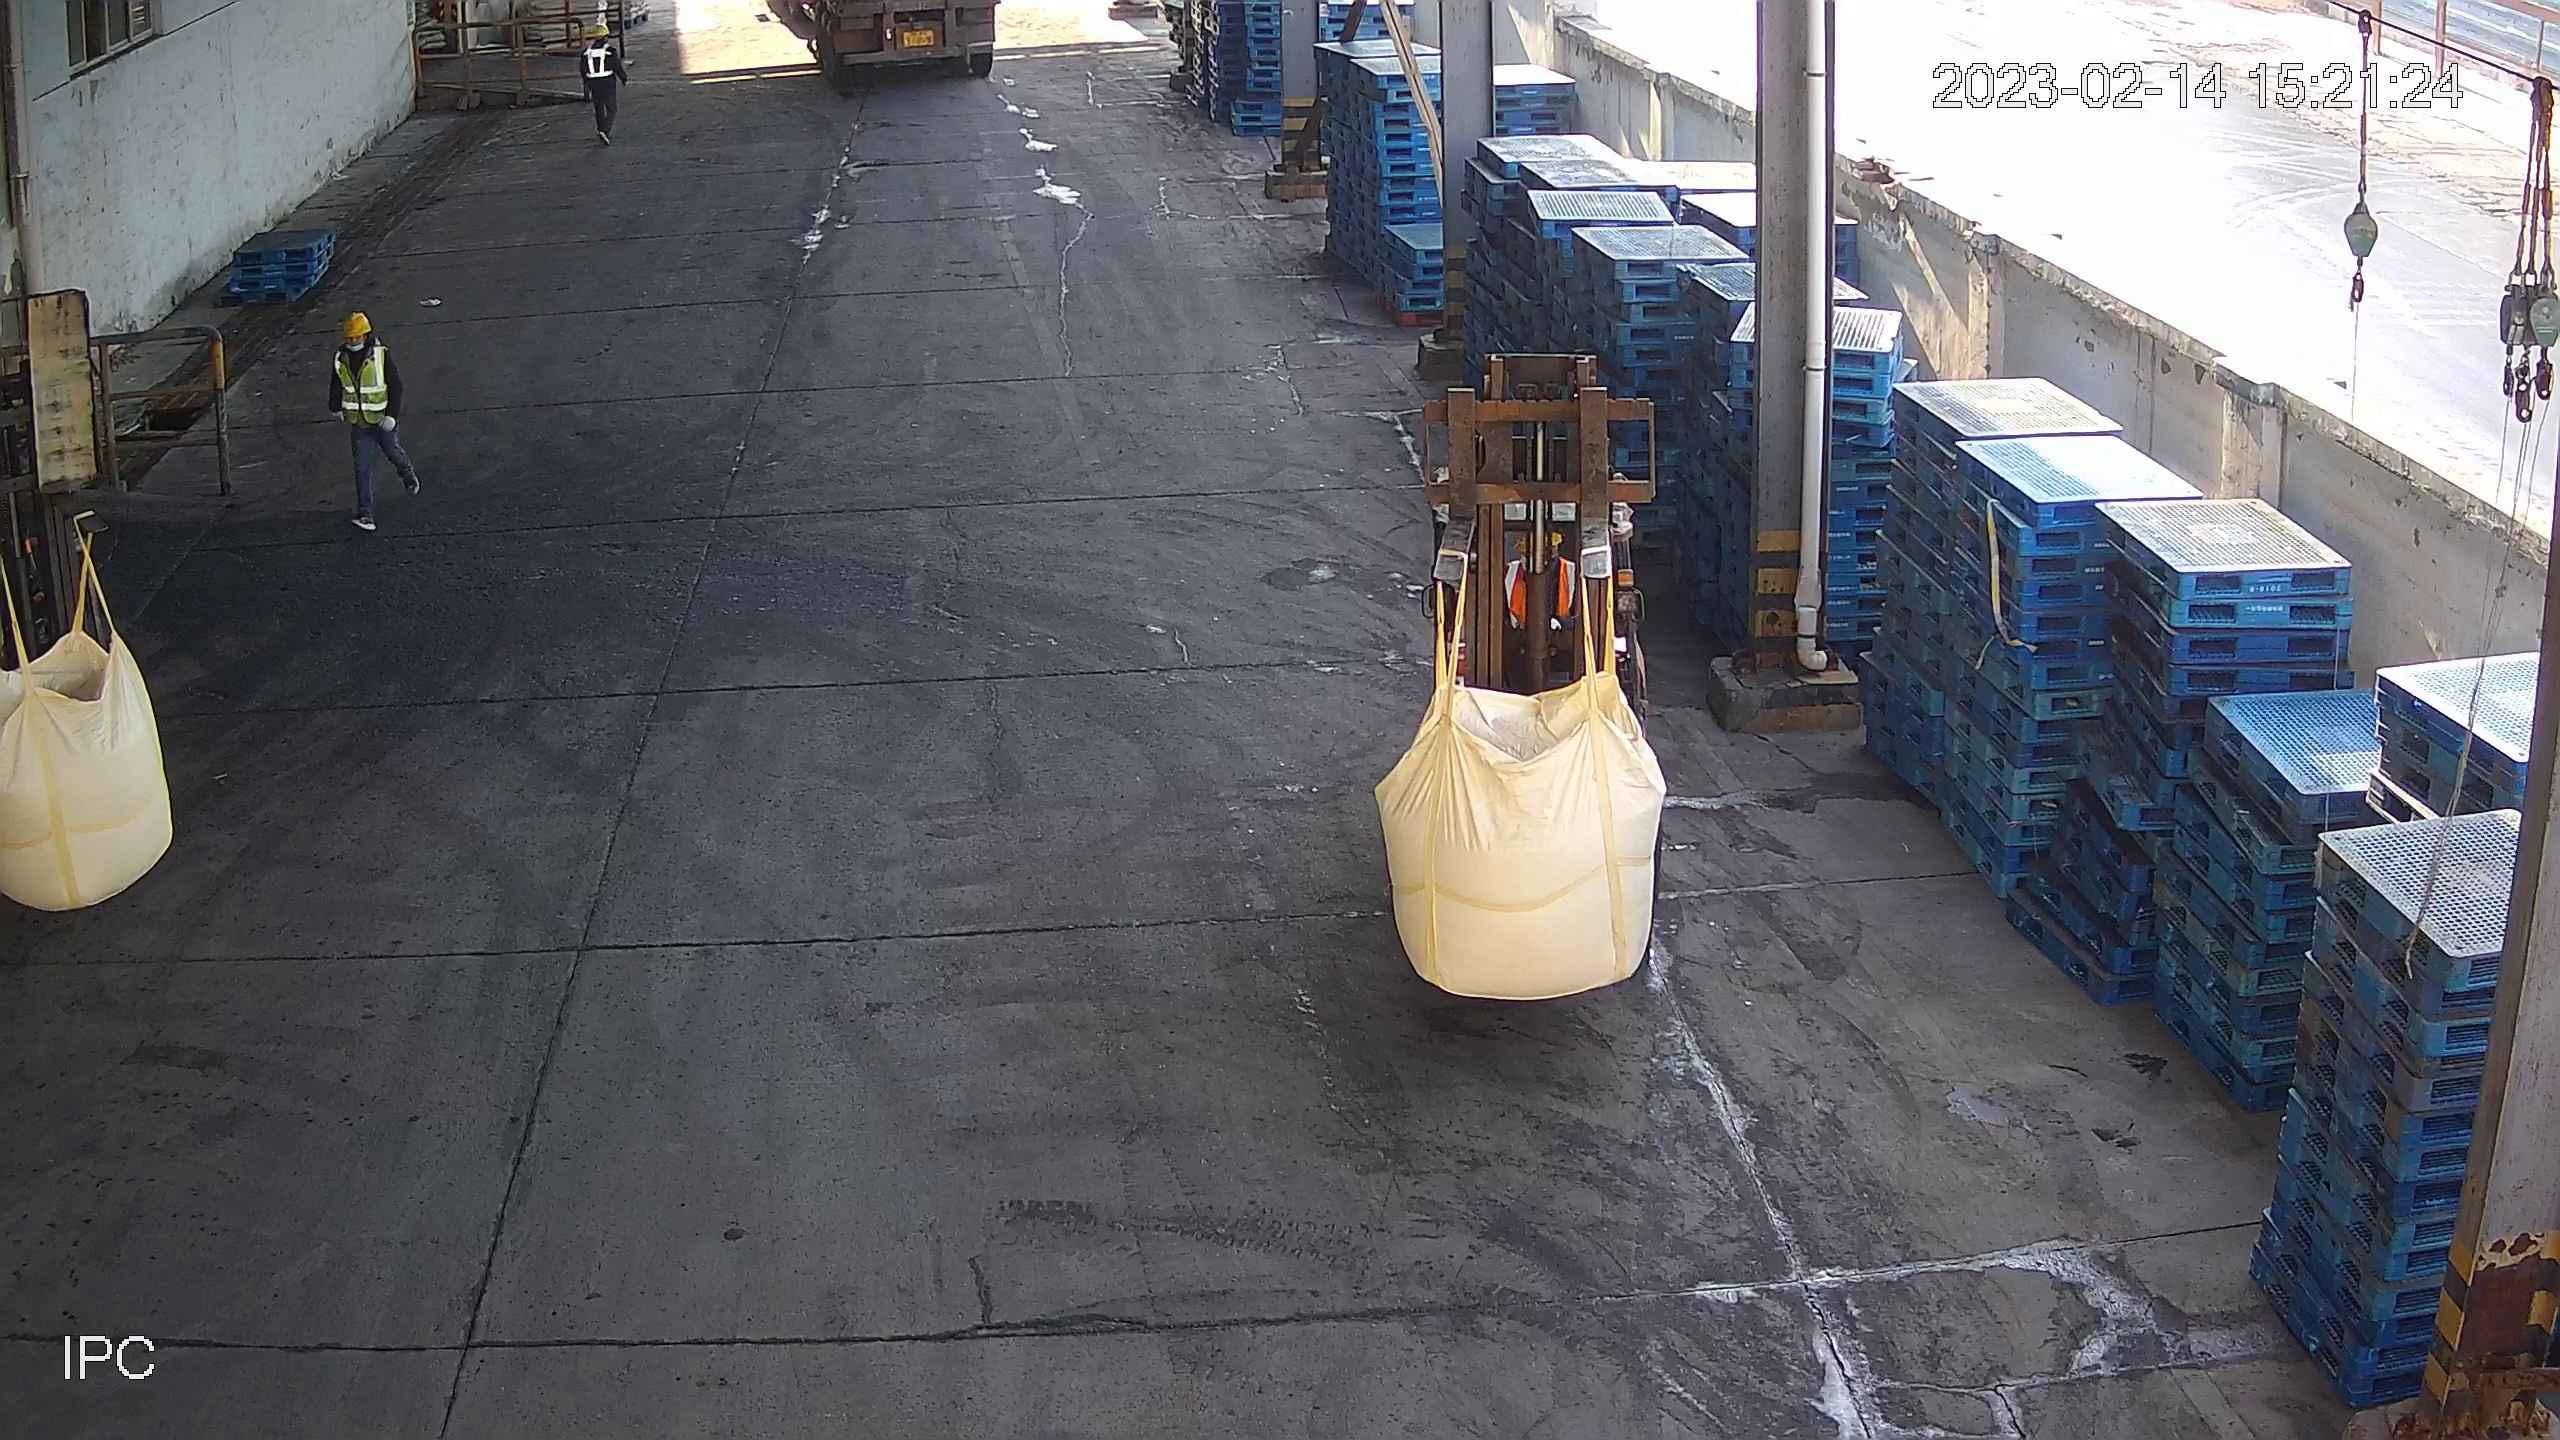belt: (584, 42, 615, 80)
head: (329, 310, 395, 369), (583, 20, 616, 61)
helmet: (341, 312, 372, 339), (590, 22, 608, 36)
people: (325, 310, 424, 533), (574, 20, 629, 144)
